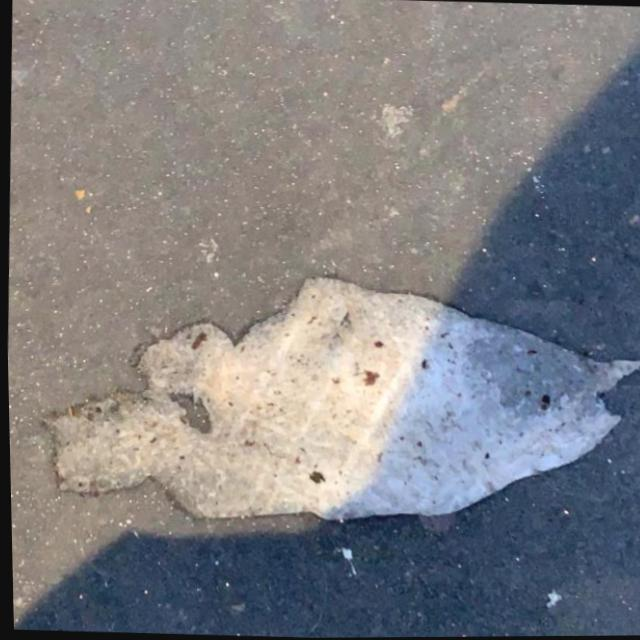Paper: (30, 262, 640, 541)
